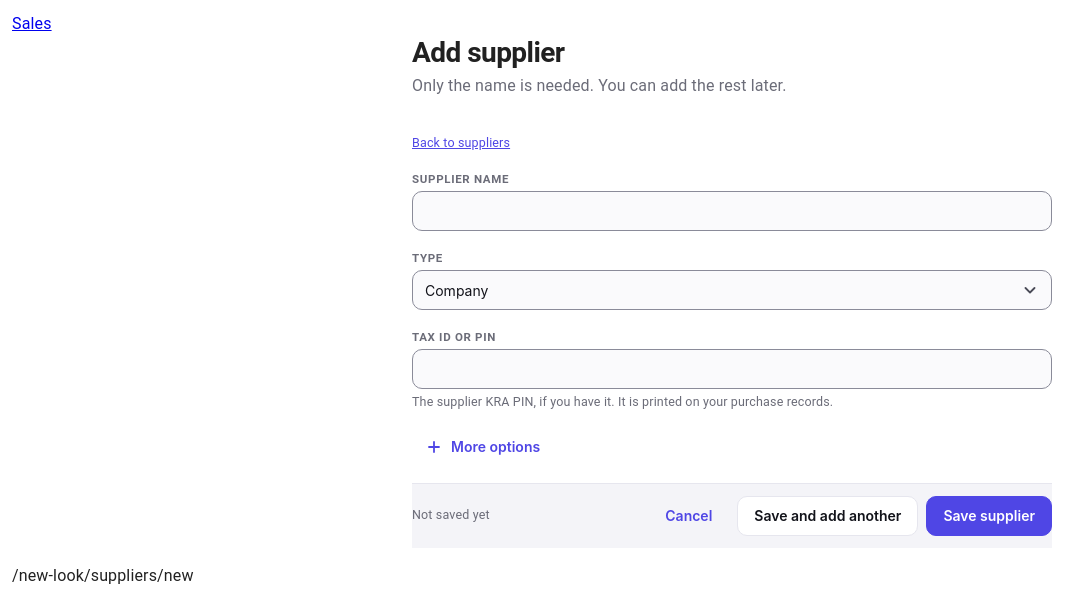
the Add supplier form (AC-26) › the type offers Company and Individual
The width and height of the screenshot is (1073, 601).
Click the dropdown named "Type" at (457, 290), box [412, 270, 1052, 310]
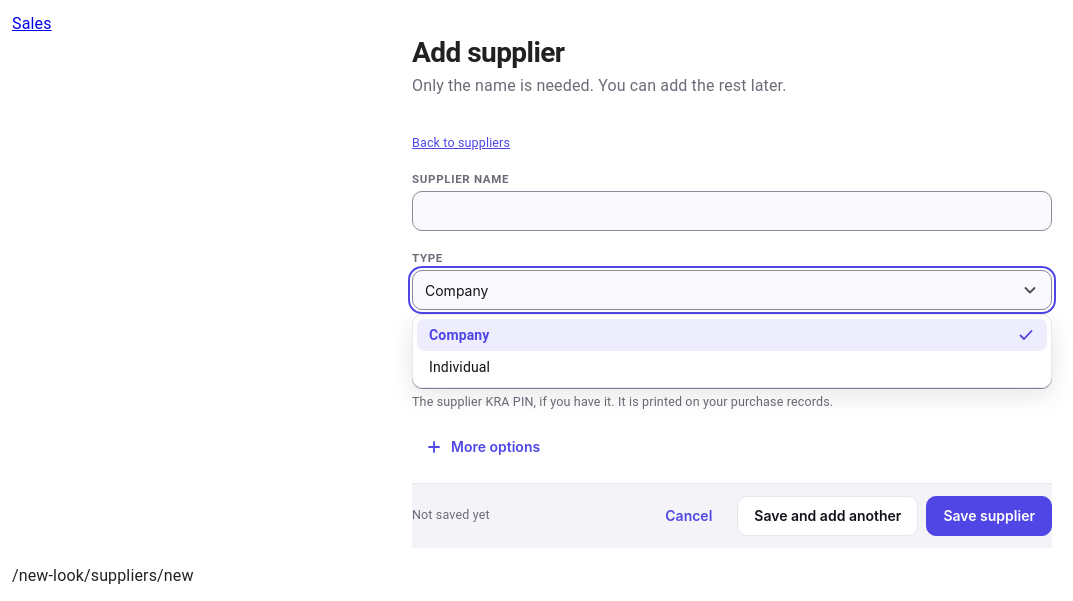
Expected: the options read "Company", "Individual", in this order, [417, 319, 1047, 351]; [429, 359, 490, 375]
